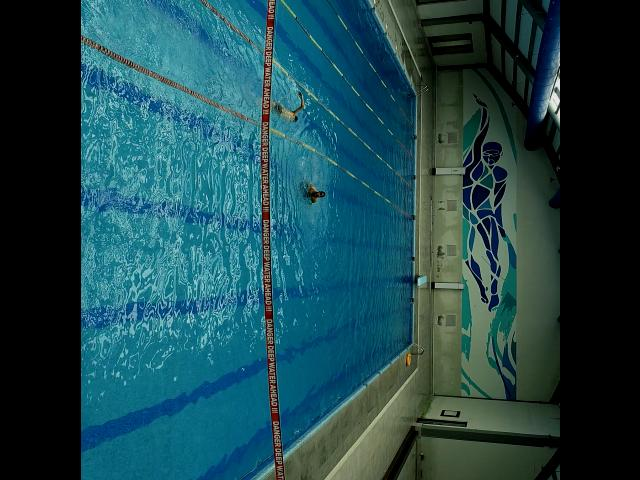swimming: (264, 92, 308, 126), (303, 181, 325, 204)
